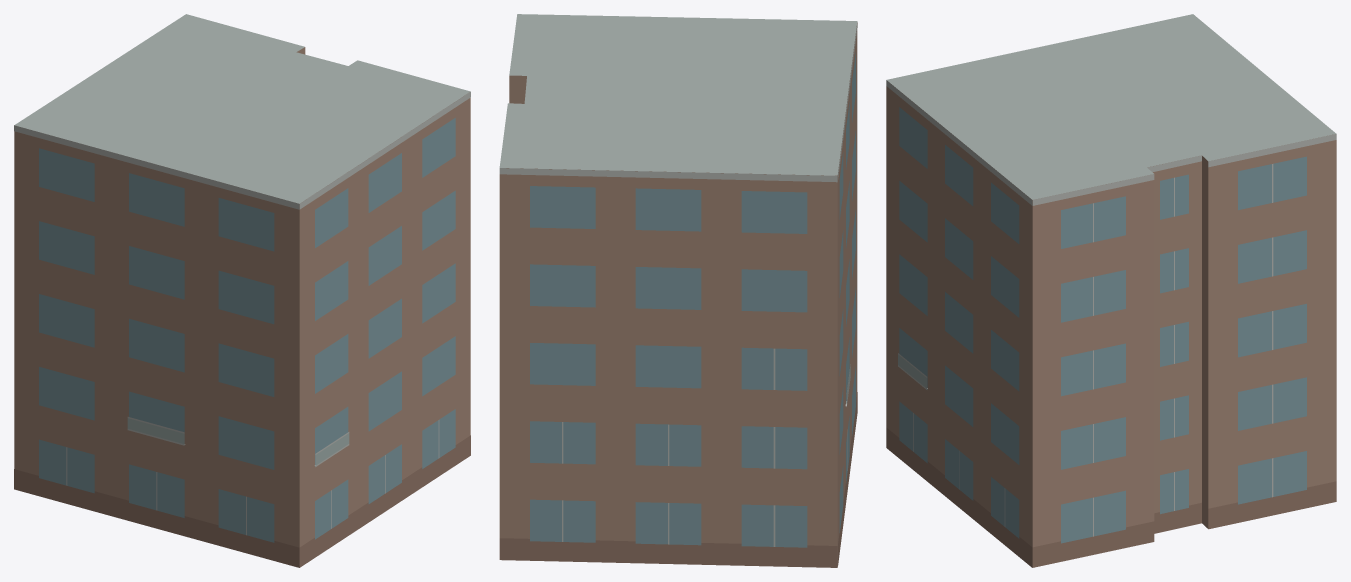
The model's file is survey-upis-32837026.glb.
3 views of the same model, side by side, from view 1: azimuth 30°, elevation 25°; view 2: azimuth 150°, elevation 25°; view 3: azimuth 270°, elevation 25° (orthographic). The views are drawn at different scales.
Visible parts, largest first — view 1: survey-upis-32837026.tmp; view 2: survey-upis-32837026.tmp; view 3: survey-upis-32837026.tmp.
Boxes of the visible parts, box(x1,y1,x2,y2) form: survey-upis-32837026.tmp: box(14, 14, 470, 567); survey-upis-32837026.tmp: box(499, 14, 857, 567); survey-upis-32837026.tmp: box(886, 14, 1336, 567).
Bounding box in the file's own units: 16.16 × 14.9 × 16.54.
